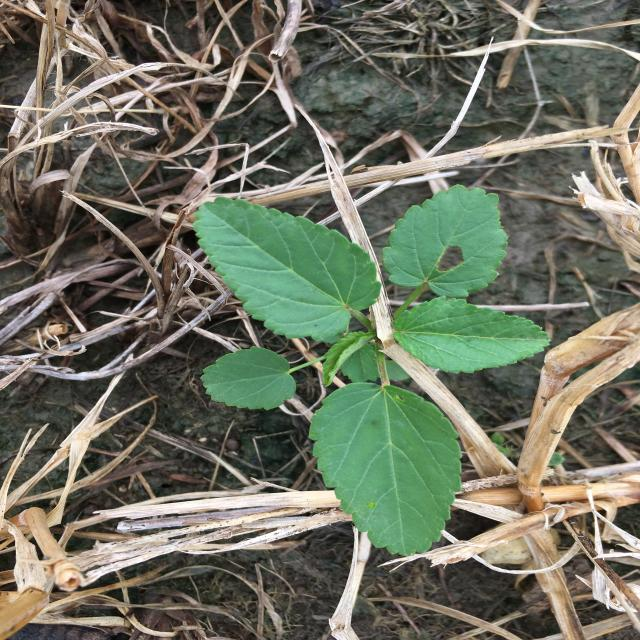PricklySida: (191, 184, 550, 557)
